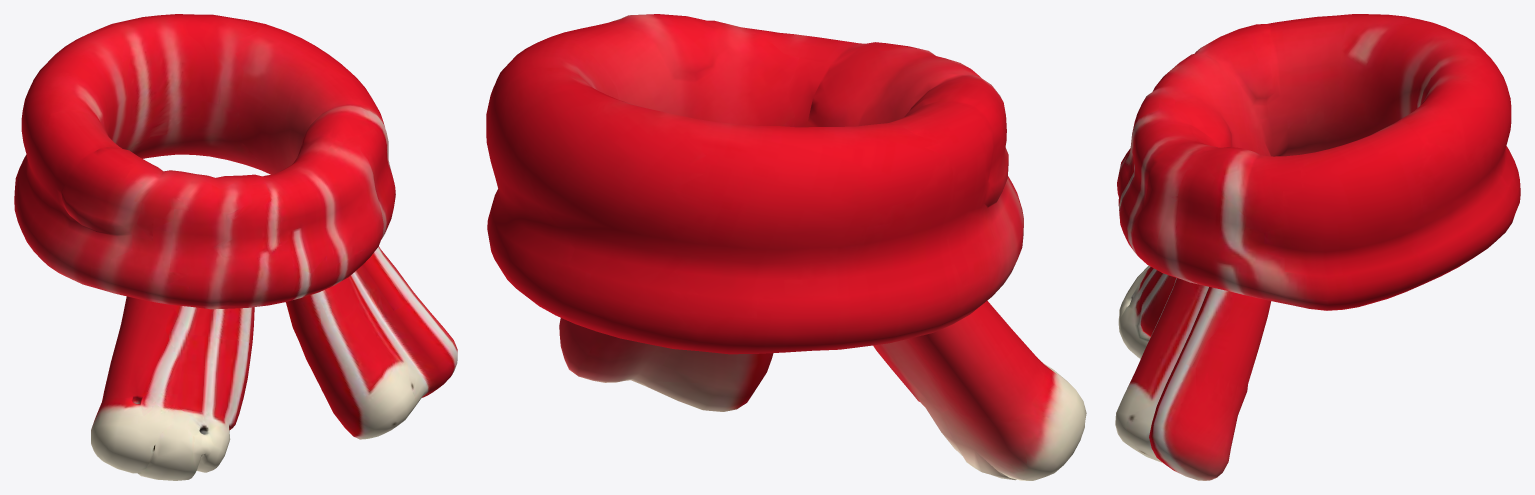
Rendered from scarf.4ed16871.glb.
3 renders of one model, left to right at view 1: azimuth 30°, elevation 25°; view 2: azimuth 150°, elevation 25°; view 3: azimuth 270°, elevation 25°, orthographic. The views are drawn at different scales.
Visible parts, largest first — view 1: tripo_node_4f629325-355c-4af3-9488-34c77ec24861; view 2: tripo_node_4f629325-355c-4af3-9488-34c77ec24861; view 3: tripo_node_4f629325-355c-4af3-9488-34c77ec24861.
Part boxes in pixels (x1,y1,x2,y2): tripo_node_4f629325-355c-4af3-9488-34c77ec24861: [14, 14, 457, 480]; tripo_node_4f629325-355c-4af3-9488-34c77ec24861: [486, 14, 1086, 480]; tripo_node_4f629325-355c-4af3-9488-34c77ec24861: [1115, 14, 1520, 480].
Size of the model in its own units: 0.998 by 0.8925 by 0.9355.
1 material, 1 textured.
